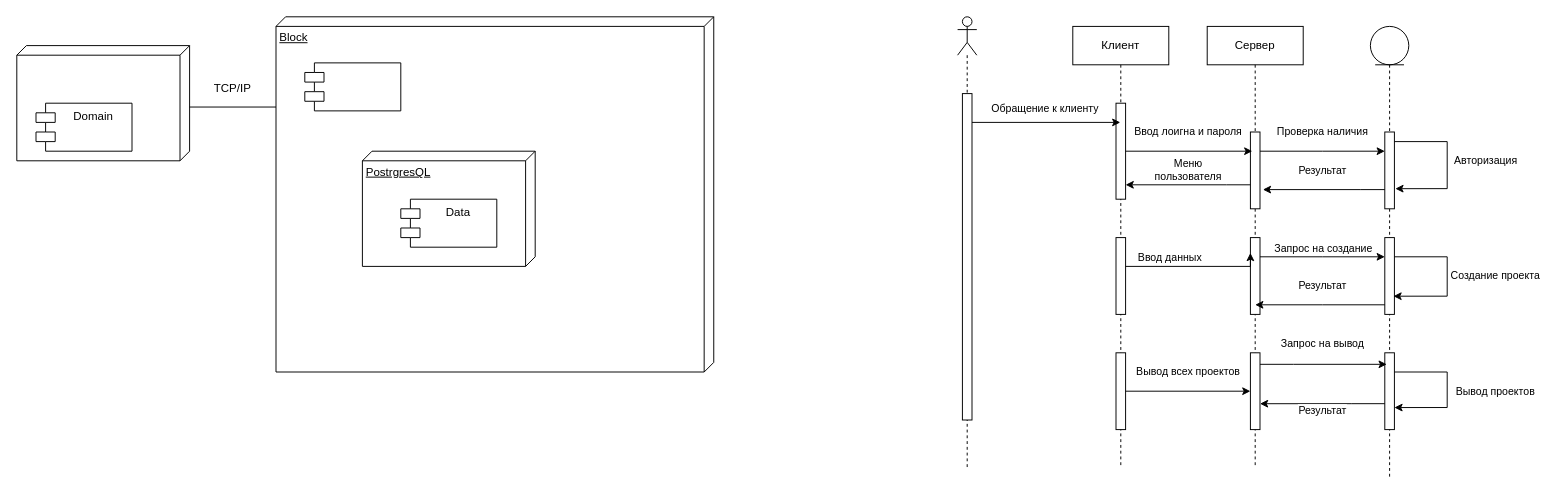
Image size: 1556x494. Some labels were removed from this diagram. Each missing label, with the box of its shape:
main.ts: (304, 62, 401, 111)
База дангных: (1369, 25, 1409, 478)
ПК с доступом к сети интернет: (16, 45, 190, 161)
